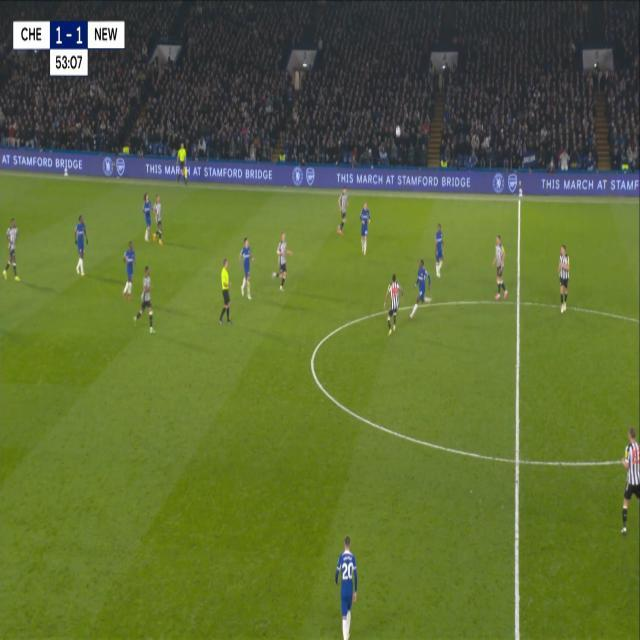Ball: (394, 120, 402, 142)
Chelsea: (332, 532, 360, 638), (410, 256, 434, 321), (237, 232, 257, 303), (121, 233, 138, 303), (72, 210, 90, 276), (434, 218, 447, 284), (358, 196, 372, 255), (142, 189, 151, 244)
Newcastle: (618, 423, 639, 539), (132, 262, 158, 338), (2, 214, 24, 292), (382, 268, 405, 338), (270, 225, 292, 295), (490, 231, 510, 302), (556, 241, 572, 317), (333, 182, 352, 237), (154, 190, 164, 250)
Refree: (216, 254, 235, 328)
